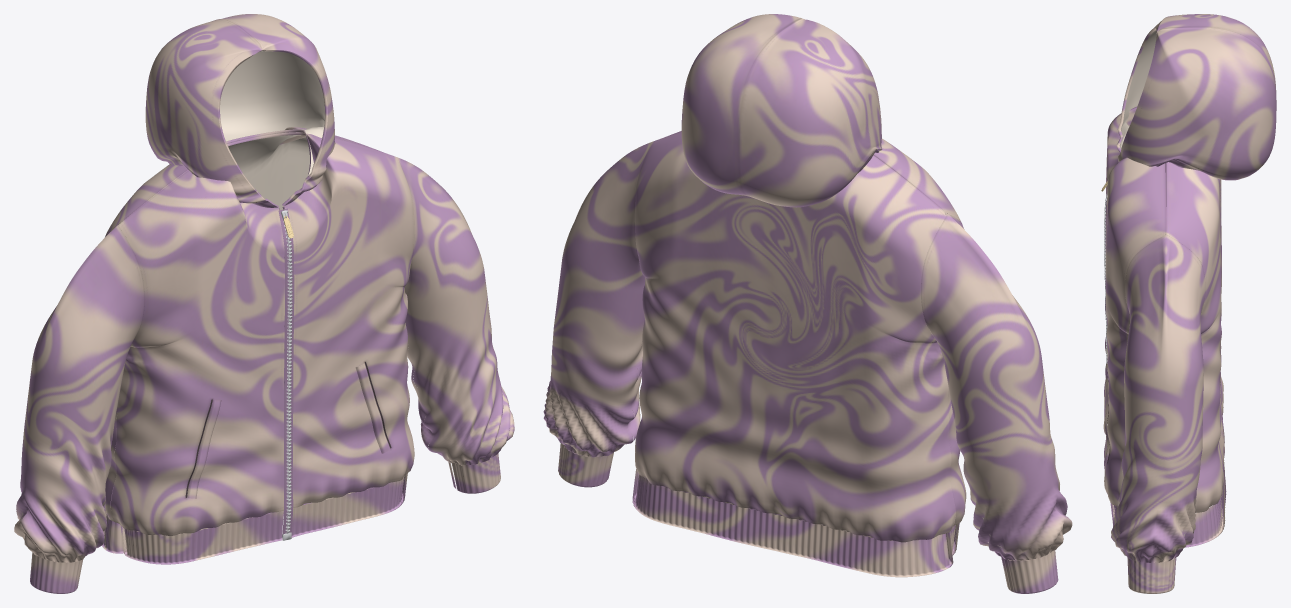
File: ressac-v2-lilac-whirl.glb
3 renders of one model, left to right at view 1: azimuth 30°, elevation 25°; view 2: azimuth 150°, elevation 25°; view 3: azimuth 270°, elevation 25°, orthographic. The views are drawn at different scales.
Visible parts, largest first — view 1: Panel_Right, Panel_Left, Sleeve_Right, Sleeve_Left, Hood_Outer, Hem, Hood_Inner, Body_Back, Zip_Teeth_Right, Zip_Teeth_Left, Cuff_Right, Cuff_Left (+2 smaller); view 2: Body_Back, Hood_Outer, Sleeve_Right, Sleeve_Left, Hem, Panel_Right, Cuff_Right, Cuff_Left; view 3: Sleeve_Left, Hood_Outer, Panel_Left, Body_Back, Cuff_Left, Hem, Hood_Inner, Panel_Right, Pocket_Left, Zip_Teeth_Left.
Part boxes in pixels (x1,y1,x2,y2): Panel_Right: (111,170,284,535); Panel_Left: (282,133,414,508); Sleeve_Right: (14,225,144,562); Sleeve_Left: (397,157,514,465); Hood_Outer: (145,14,335,207); Hem: (102,473,407,564); Hood_Inner: (220,51,324,175); Body_Back: (103,127,381,521); Zip_Teeth_Right: (278,209,291,540); Zip_Teeth_Left: (283,208,294,539); Cuff_Right: (30,552,83,593); Cuff_Left: (448,453,500,493); Body_Back: (634,132,955,542); Hood_Outer: (681,14,882,207); Sleeve_Right: (921,214,1072,560); Sleeve_Left: (543,142,651,457); Hem: (632,469,959,577); Panel_Right: (873,138,966,529); Cuff_Right: (1001,550,1058,593); Cuff_Left: (558,443,613,487); Sleeve_Left: (1111,234,1205,562); Hood_Outer: (1116,14,1276,180); Panel_Left: (1104,157,1166,506); Body_Back: (1165,162,1224,512); Cuff_Left: (1127,557,1176,593); Hem: (1110,423,1226,547); Hood_Inner: (1119,30,1168,160); Panel_Right: (1103,106,1137,435); Pocket_Left: (1105,363,1109,462); Zip_Teeth_Left: (1104,192,1107,425).
Size of the model in its own units: 0.9508 by 0.9165 by 0.3121.
6 materials, 1 textured.
